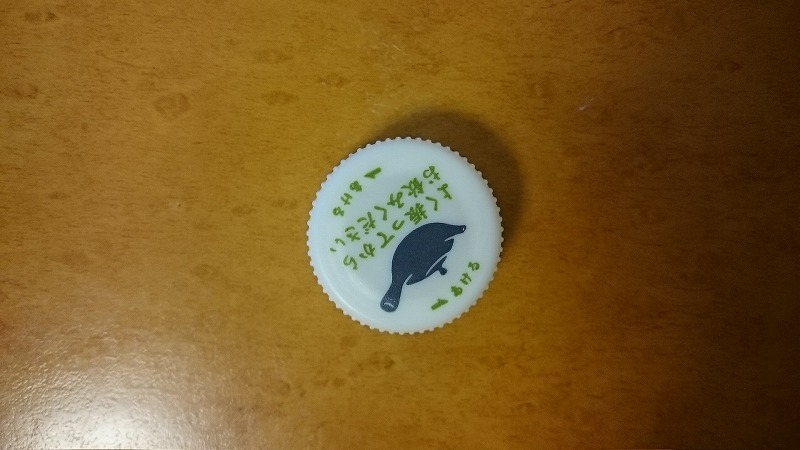A: (298, 131, 511, 339)
